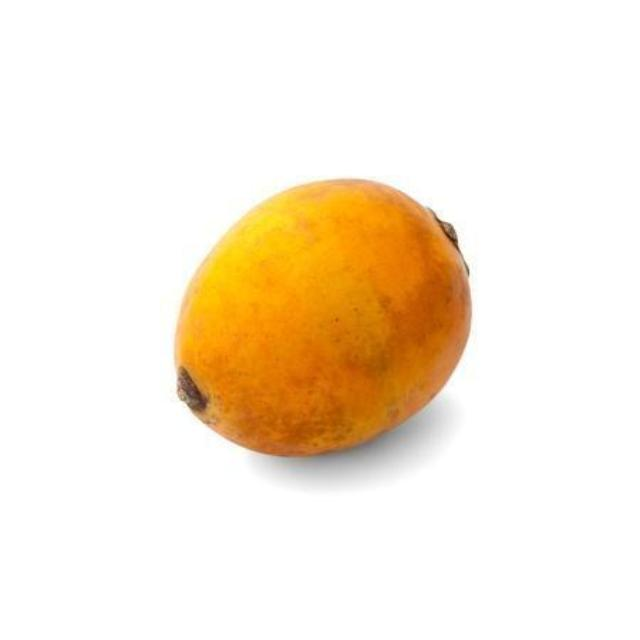good: (174, 178, 474, 460)
